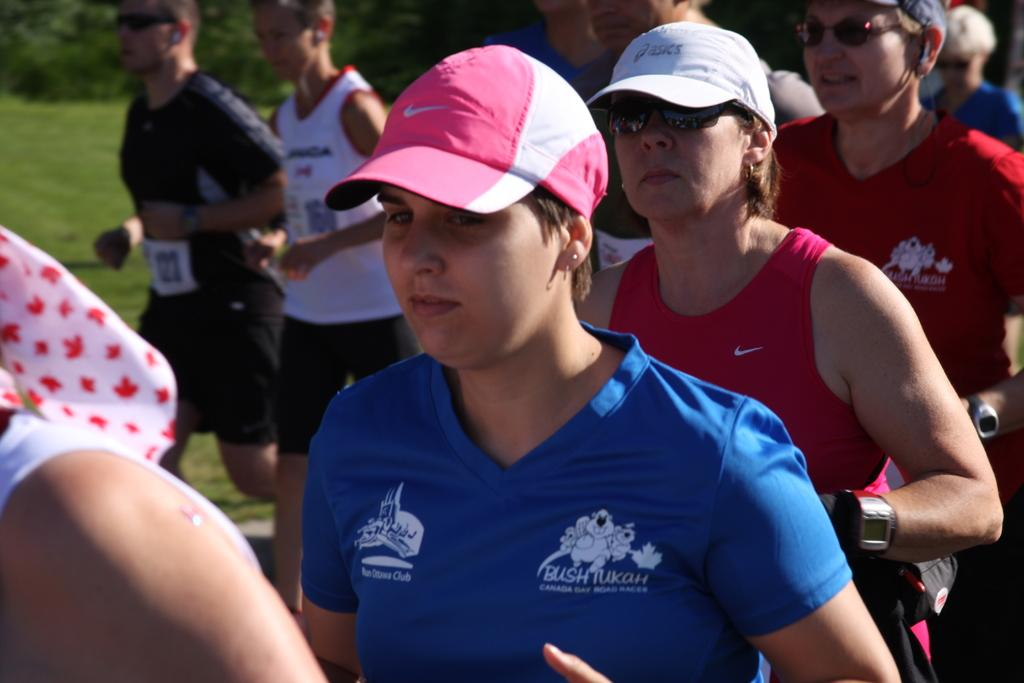Hat: (323, 45, 601, 263), (586, 20, 774, 144)
